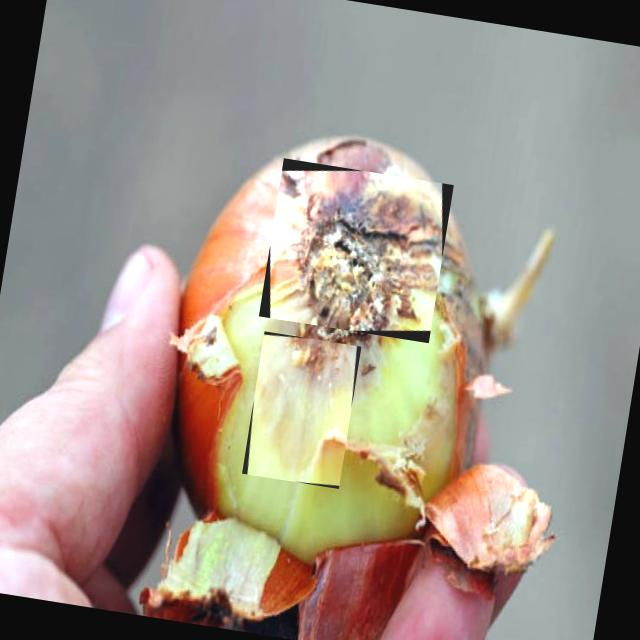rotten: (259, 158, 454, 344), (242, 332, 361, 488)
